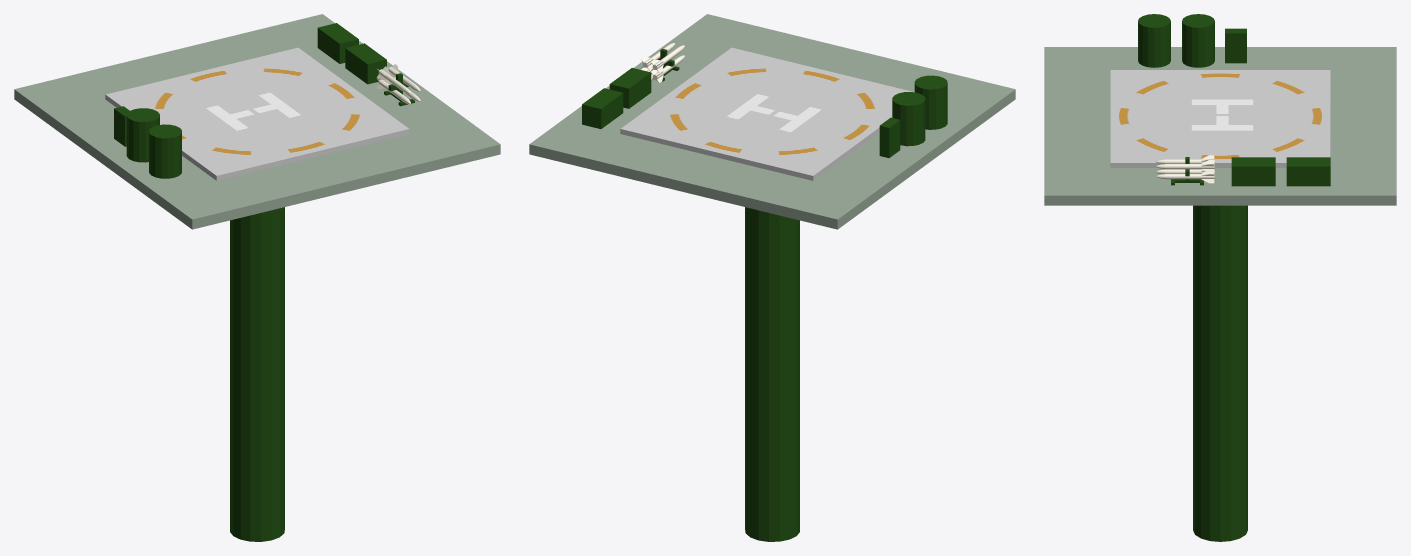
Rendered from sea_landing_port_supply_station.glb.
The picture shows the model from 3 angles, left to right: view 1: azimuth 30°, elevation 25°; view 2: azimuth 150°, elevation 25°; view 3: azimuth 270°, elevation 25°; orthographic projection.
Parts seen in each view (by area): view 1: plattform, base, stand, Zylinder.002, Zylinder, Würfel.001, Würfel.002; view 2: plattform, base, stand, Zylinder, Zylinder.002, Würfel.002, Würfel.001, Würfel; view 3: plattform, base, stand, Zylinder, Zylinder.002, Würfel.001, Würfel.002, Würfel.
Part boxes in pixels (x1,y1,x2,y2): plattform: (14, 14, 500, 229); base: (105, 47, 409, 180); stand: (230, 207, 284, 541); Zylinder.002: (149, 124, 181, 178); Zylinder: (126, 108, 159, 162); Würfel.001: (345, 43, 386, 84); Würfel.002: (317, 23, 358, 63); plattform: (529, 14, 1015, 229); base: (620, 47, 914, 180); stand: (745, 207, 799, 541); Zylinder: (892, 92, 925, 146); Zylinder.002: (914, 75, 947, 129); Würfel.002: (582, 88, 623, 128); Würfel.001: (609, 68, 651, 108); Würfel: (879, 117, 900, 157); plattform: (1044, 47, 1396, 205); base: (1110, 70, 1330, 167); stand: (1193, 205, 1247, 541); Zylinder: (1182, 14, 1214, 67); Zylinder.002: (1138, 14, 1170, 67); Würfel.001: (1231, 157, 1275, 186); Würfel.002: (1286, 157, 1330, 186); Würfel: (1225, 28, 1246, 63).
Size of the model in its own units: 1.6 by 2.25 by 1.6.
Materials: 5 (1 with a texture image).
